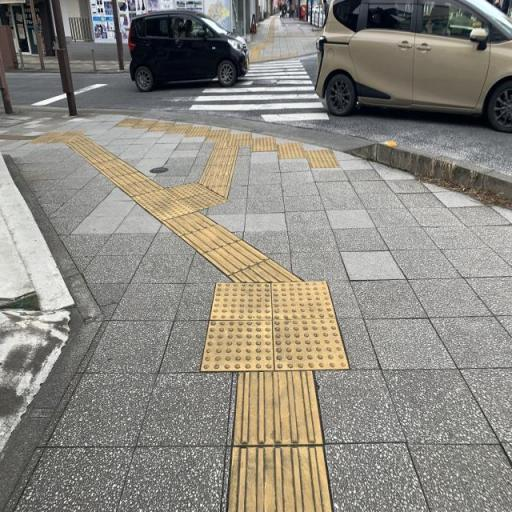dot: (273, 319, 350, 371), (203, 321, 274, 372), (270, 280, 336, 321), (208, 282, 272, 321)
line: (227, 446, 333, 511), (233, 370, 324, 445)
